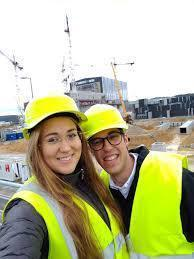helmet: (24, 91, 88, 132), (80, 103, 129, 139)
